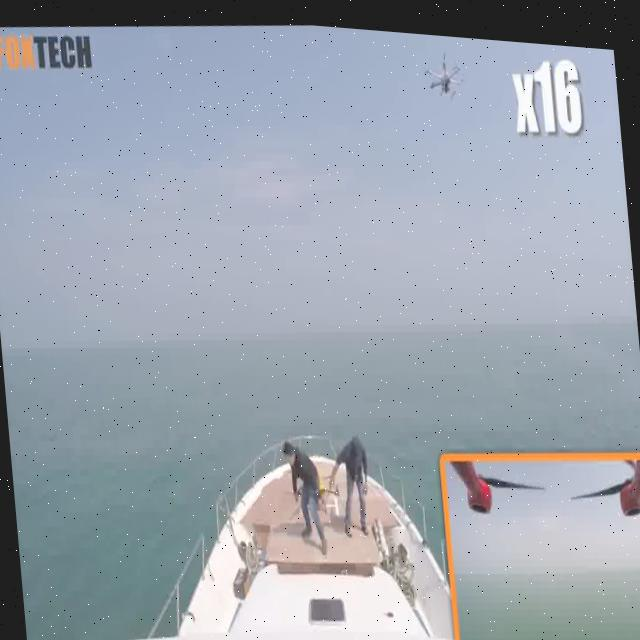drone: (422, 37, 466, 96)
